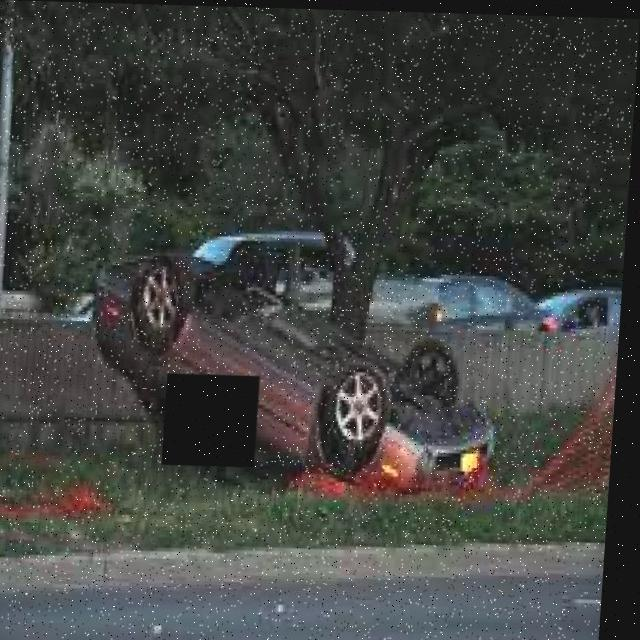single accident: (80, 218, 540, 530)
